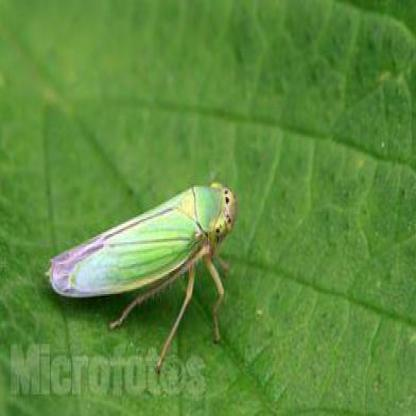Green-Leafhopper: (43, 178, 241, 364)
